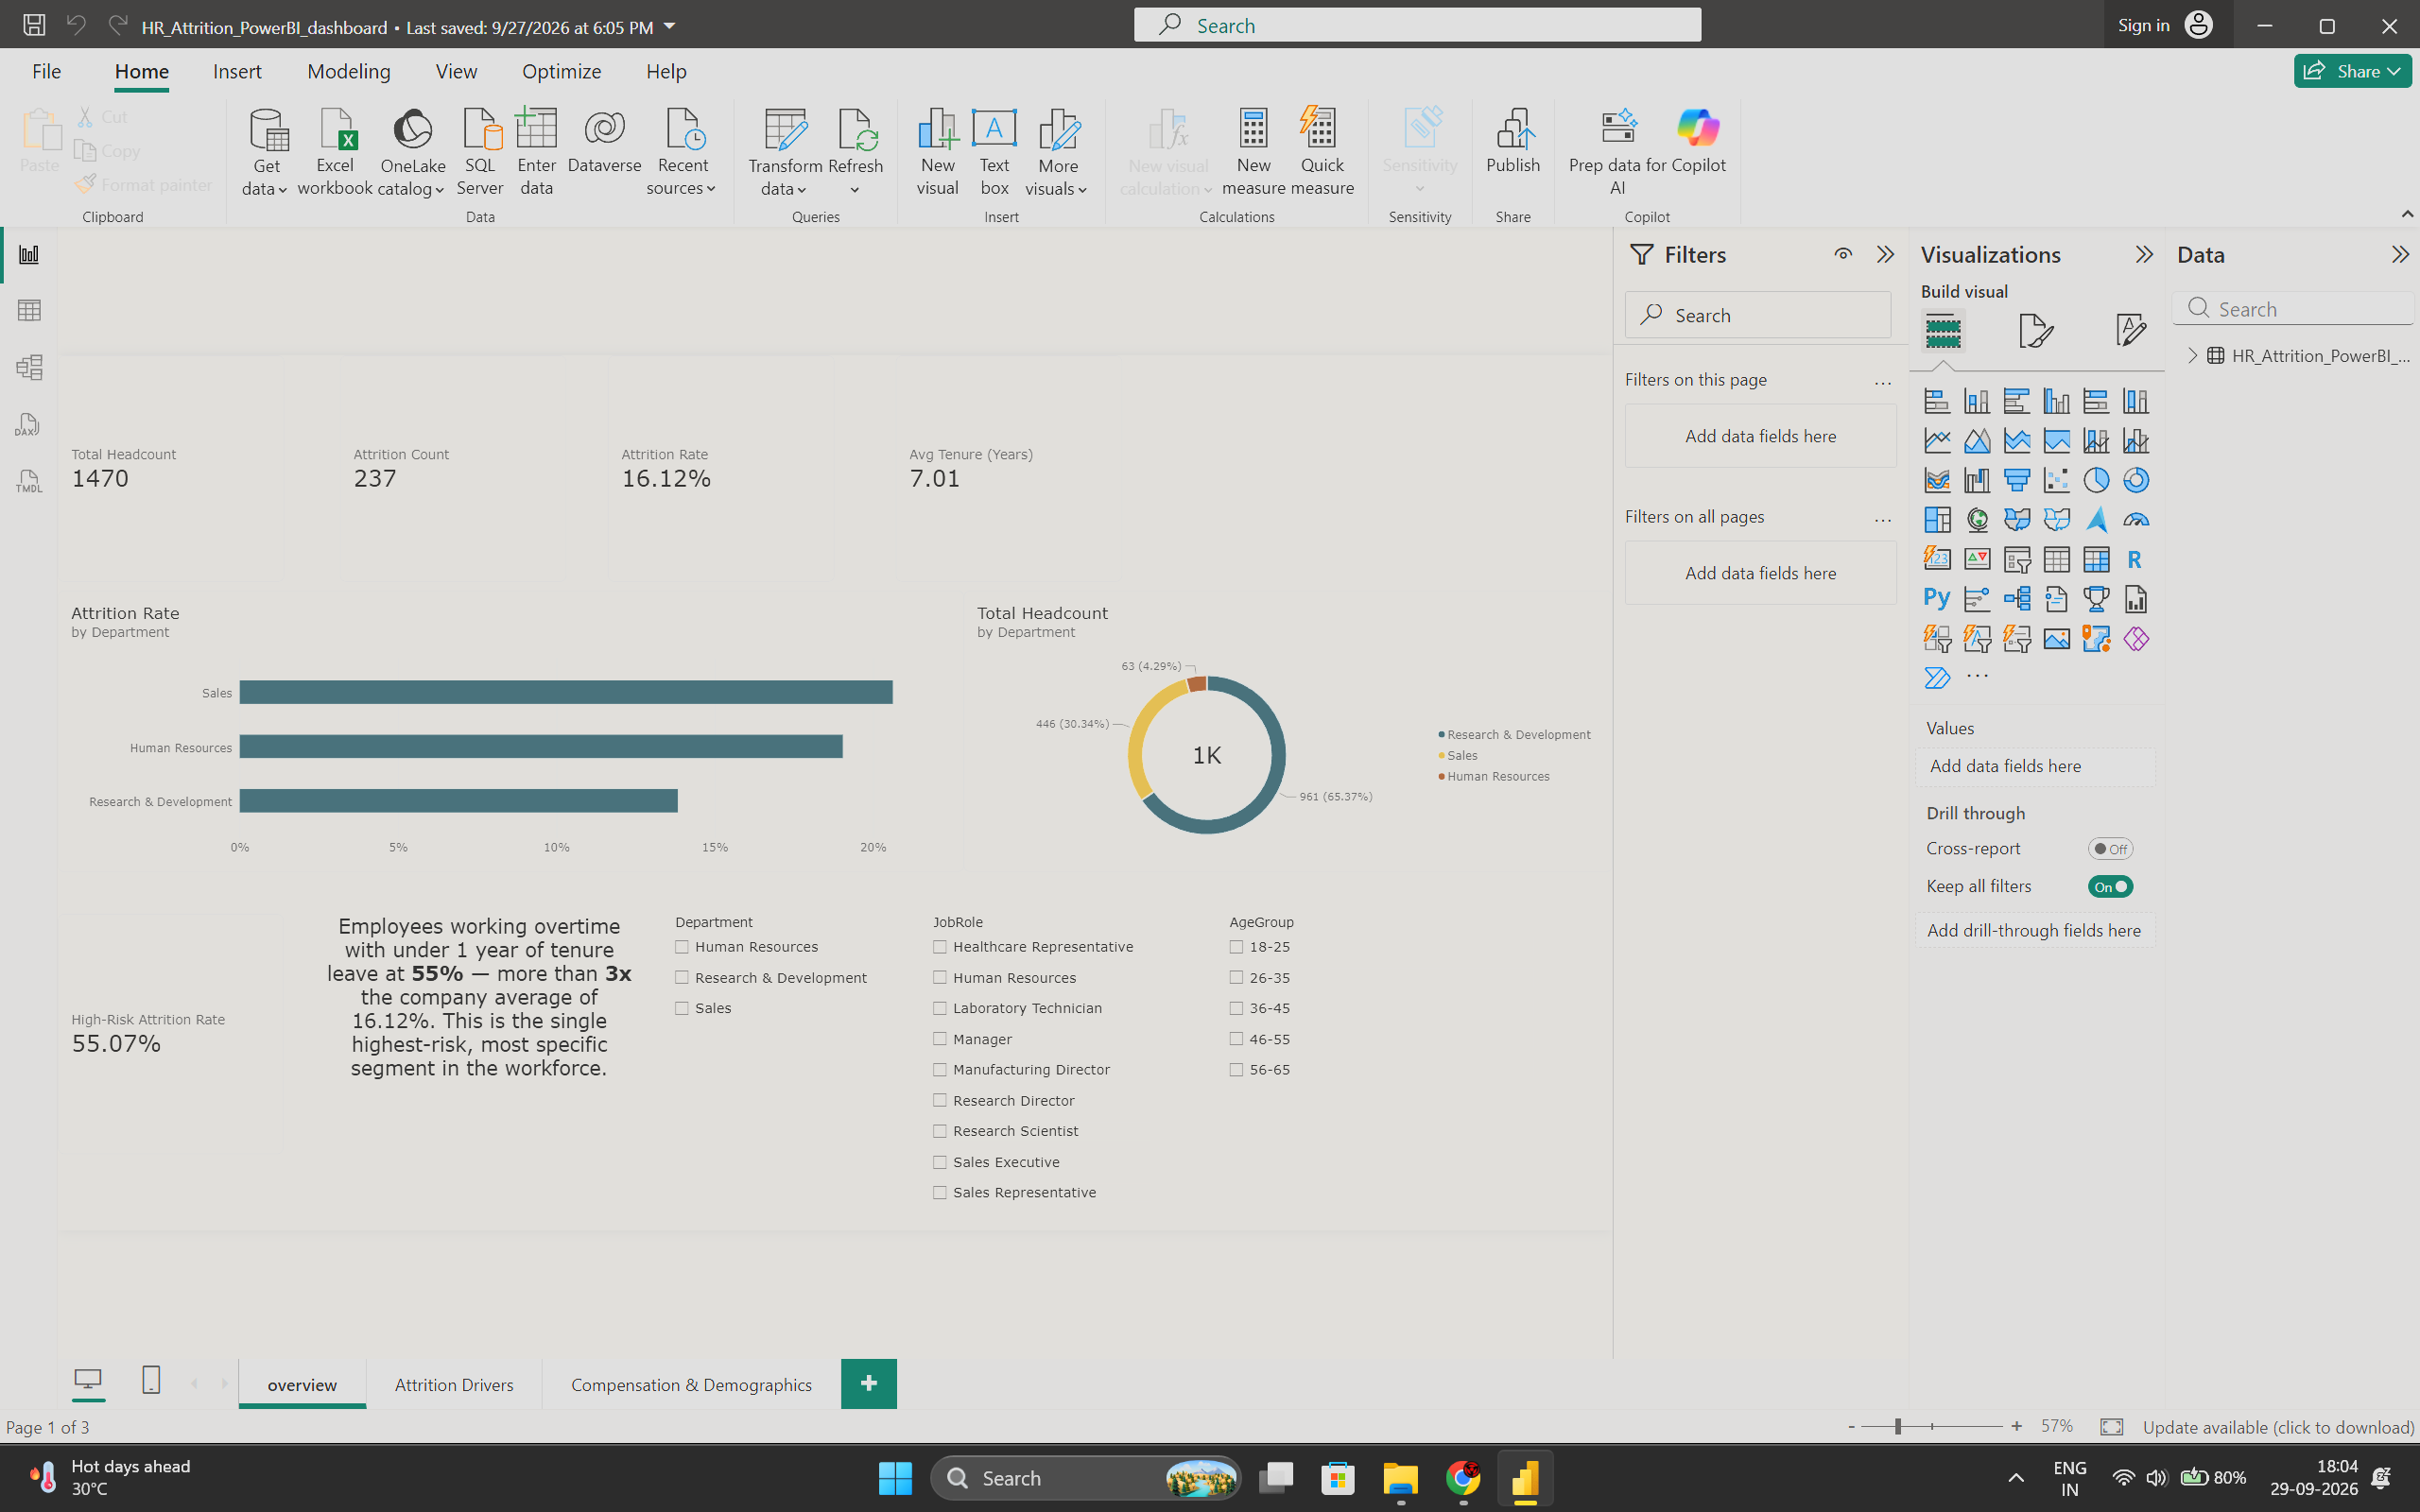

The dashboard page shown, as its layout file describes it:
{"tool":"powerbi","page":{"name":"overview","canvas":[1920,1080],"ordinal":0},"visuals":[{"type":"cardVisual","fields":{"Data":["HR_Attrition_PowerBI_Ready.Total Headcount"]},"box":[0,0,280,280],"z":0},{"type":"cardVisual","fields":{"Data":["HR_Attrition_PowerBI_Ready.Attrition Count"]},"box":[347.9,0,280,280],"z":1},{"type":"cardVisual","fields":{"Data":["HR_Attrition_PowerBI_Ready.Attrition Rate"]},"box":[679.1,0,280,280],"z":2},{"type":"cardVisual","fields":{"Data":["HR_Attrition_PowerBI_Ready.Avg Tenure (Years)"]},"box":[1035.5,0,280,280],"z":3},{"type":"clusteredBarChart","fields":{"Category":["HR_Attrition_PowerBI_Ready.Department"],"Y":["HR_Attrition_PowerBI_Ready.Attrition Rate"]},"box":[0,290.3,1119.3,347.6],"z":4},{"type":"donutChart","fields":{"Category":["HR_Attrition_PowerBI_Ready.Department"],"Y":["HR_Attrition_PowerBI_Ready.Total Headcount"]},"box":[1119.3,290.3,801.3,347.6],"z":5},{"type":"cardVisual","fields":{"Data":["HR_Attrition_PowerBI_Ready.High-Risk Attrition Rate"]},"box":[0,689.6,279.8,297.2],"z":6},{"type":"textbox","box":[324.9,689.6,389.9,270.4],"z":7},{"type":"slicer","fields":{"Values":["HR_Attrition_PowerBI_Ready.Department"]},"box":[754.6,689.6,280.9,297.6],"z":8},{"type":"slicer","fields":{"Values":["HR_Attrition_PowerBI_Ready.JobRole"]},"box":[1073.2,689.6,276.7,389.9],"z":9},{"type":"slicer","fields":{"Values":["HR_Attrition_PowerBI_Ready.AgeGroup"]},"box":[1440,689.6,383.6,339.6],"z":10}]}

Visuals, with their boxes on the page's 1920x1080 design canvas (x1, y1, x2, y2). These are canvas units, not pixel positions in the 2420x1512 screenshot, which may show the page scaled, cropped or inside an application window:
cardVisual - HR_Attrition_PowerBI_Ready.Total Headcount: crop(0, 0, 280, 280)
cardVisual - HR_Attrition_PowerBI_Ready.Attrition Count: crop(348, 0, 628, 280)
cardVisual - HR_Attrition_PowerBI_Ready.Attrition Rate: crop(679, 0, 959, 280)
cardVisual - HR_Attrition_PowerBI_Ready.Avg Tenure (Years): crop(1036, 0, 1316, 280)
clusteredBarChart - HR_Attrition_PowerBI_Ready.Department x HR_Attrition_PowerBI_Ready.Attrition Rate: crop(0, 290, 1119, 638)
donutChart - HR_Attrition_PowerBI_Ready.Department x HR_Attrition_PowerBI_Ready.Total Headcount: crop(1119, 290, 1921, 638)
cardVisual - HR_Attrition_PowerBI_Ready.High-Risk Attrition Rate: crop(0, 690, 280, 987)
textbox: crop(325, 690, 715, 960)
slicer - HR_Attrition_PowerBI_Ready.Department: crop(755, 690, 1036, 987)
slicer - HR_Attrition_PowerBI_Ready.JobRole: crop(1073, 690, 1350, 1080)
slicer - HR_Attrition_PowerBI_Ready.AgeGroup: crop(1440, 690, 1824, 1029)
